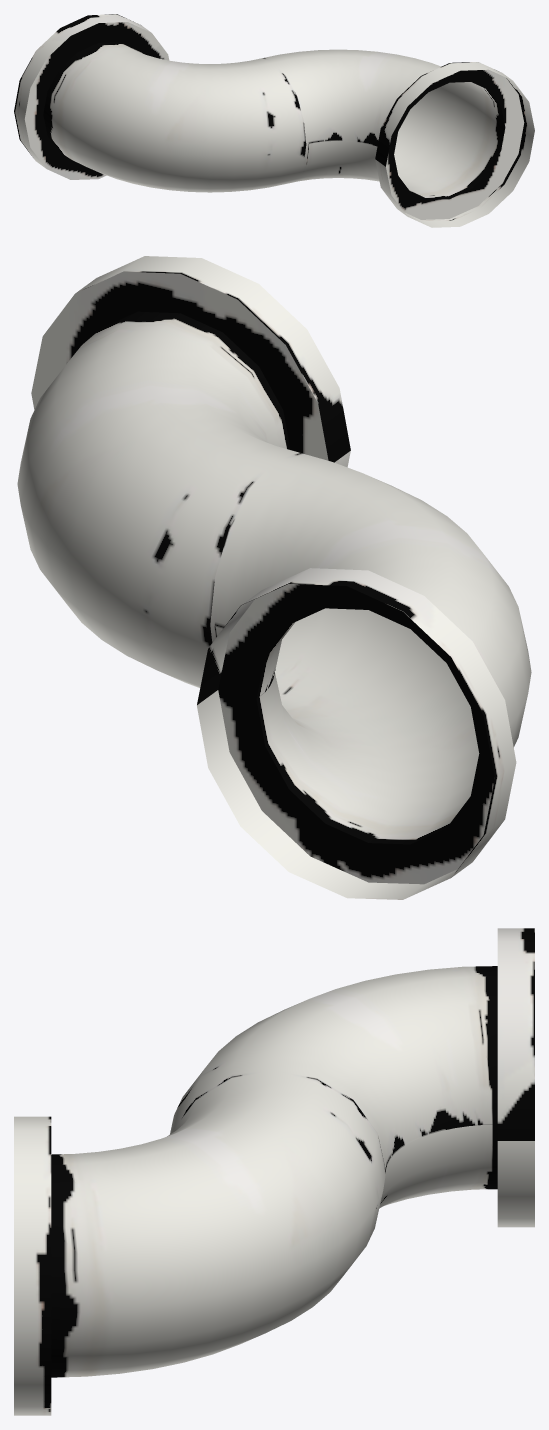
The model's file is props_mining_industrial_pipe01_s_01.glb.
3 views of the same model, one above another, from view 1: azimuth 30°, elevation 25°; view 2: azimuth 150°, elevation 25°; view 3: azimuth 270°, elevation 25° (orthographic). The views are drawn at different scales.
Visible parts, largest first — view 1: models/props_mining/industrial_pipe01_s_01; view 2: models/props_mining/industrial_pipe01_s_01; view 3: models/props_mining/industrial_pipe01_s_01.
Part boxes in pixels (x1=…): models/props_mining/industrial_pipe01_s_01: x1=14, y1=14, x2=534, y2=227; models/props_mining/industrial_pipe01_s_01: x1=17, y1=256, x2=531, y2=899; models/props_mining/industrial_pipe01_s_01: x1=14, y1=928, x2=534, y2=1415.
Size of the model in its own units: 80.02 by 32.16 by 56.
Materials: 1 (1 with a texture image).
